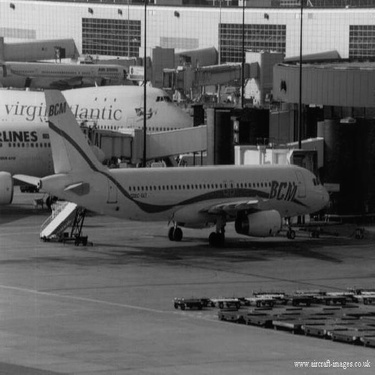airplane: (8, 88, 360, 268), (1, 43, 216, 144)
